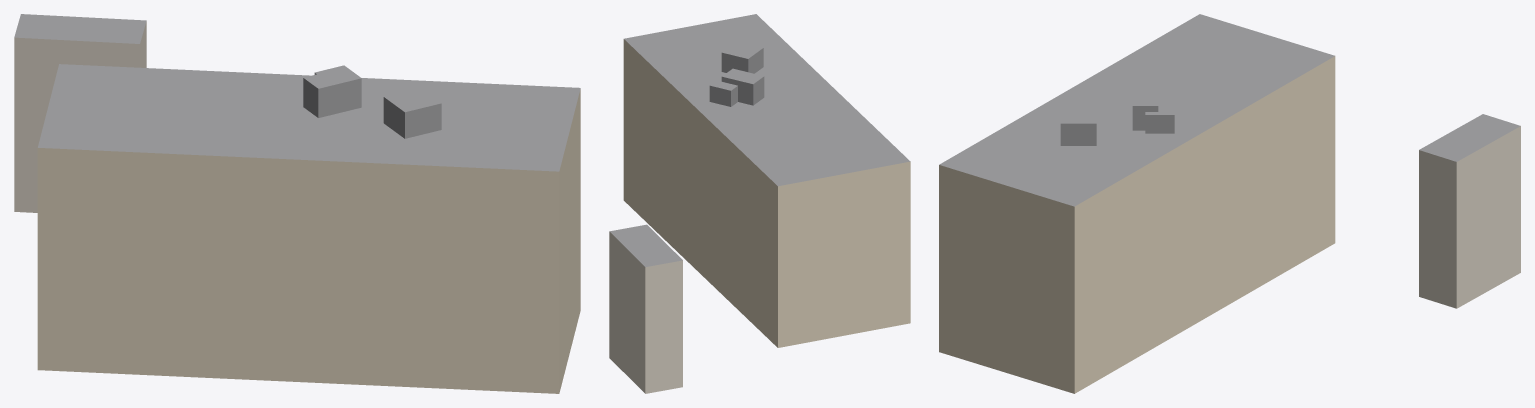
The model's file is building_5_6.glb.
The picture shows the model from 3 angles, left to right: view 1: azimuth 30°, elevation 25°; view 2: azimuth 150°, elevation 25°; view 3: azimuth 270°, elevation 25°; orthographic projection. The views are drawn at different scales.
Visible parts, largest first — view 1: sandstone, roof, concrete_warm; view 2: sandstone, roof, concrete_warm; view 3: sandstone, roof, concrete_warm.
Boxes of the visible parts, bbox=[...] form: sandstone: bbox=[37, 89, 580, 393]; roof: bbox=[14, 14, 580, 171]; concrete_warm: bbox=[14, 21, 146, 212]; sandstone: bbox=[623, 39, 910, 347]; roof: bbox=[610, 14, 910, 266]; concrete_warm: bbox=[609, 231, 682, 393]; sandstone: bbox=[939, 56, 1335, 393]; roof: bbox=[939, 14, 1520, 206]; concrete_warm: bbox=[1419, 126, 1520, 308].
Bounding box in the file's own units: 27.3 × 14.01 × 34.84.
